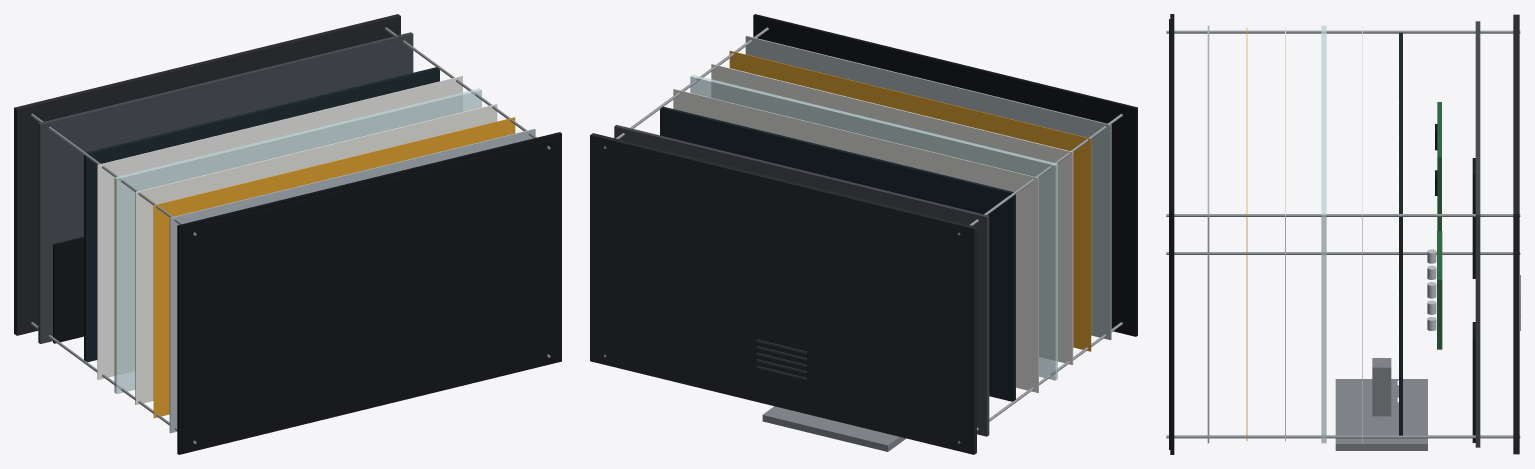
Rendered from asset-object-63189b5a-cc04-4052-b918-e9fbed7979ef-qled-tv-exploded.glb.
3 views of the same model, side by side, from view 1: azimuth 30°, elevation 25°; view 2: azimuth 150°, elevation 25°; view 3: azimuth 270°, elevation 25° (orthographic). The views are drawn at different scales.
Parts seen in each view (by area): view 1: front_glass, chassis_frame, reflector_sheet, rear_cover, light_guide_plate, diffuser_sheet, quantum_dot_film, led_backlight_pcb, lcd_panel, bezel_border, speaker_grille, assembly_rod (×2); view 2: rear_cover, diffuser_sheet, led_backlight_pcb, bezel_border, reflector_sheet, lcd_panel, light_guide_plate, quantum_dot_film, chassis_frame, stand_base, assembly_rod (×2); view 3: stand_base, assembly_rod (×4), rear_cover, chassis_frame, light_guide_plate, bezel_border, led_backlight_pcb, lcd_panel, stand_neck, speaker_grille (×2), front_glass, quantum_dot_film (+4 smaller).
Part boxes in pixels (x1,y1,x2,y2): front_glass: [182, 137, 559, 451]; chassis_frame: [38, 32, 413, 343]; reflector_sheet: [97, 76, 462, 379]; rear_cover: [14, 14, 400, 335]; light_guide_plate: [114, 88, 481, 393]; diffuser_sheet: [135, 104, 497, 404]; quantum_dot_film: [153, 117, 515, 418]; led_backlight_pcb: [84, 67, 439, 362]; lcd_panel: [169, 128, 535, 433]; bezel_border: [177, 132, 561, 454]; speaker_grille: [53, 236, 83, 343]; assembly_rod (×2): [31, 27, 550, 235]; rear_cover: [590, 133, 976, 454]; diffuser_sheet: [711, 64, 1073, 364]; led_backlight_pcb: [660, 106, 1015, 401]; bezel_border: [753, 14, 1137, 336]; reflector_sheet: [673, 89, 1038, 392]; lcd_panel: [745, 35, 1111, 340]; light_guide_plate: [690, 75, 1057, 380]; quantum_dot_film: [729, 50, 1091, 351]; chassis_frame: [614, 125, 989, 436]; stand_base: [762, 406, 906, 451]; assembly_rod (×2): [603, 27, 1122, 235]; stand_base: [1335, 379, 1427, 450]; assembly_rod (×4): [1166, 30, 1520, 438]; rear_cover: [1513, 14, 1519, 454]; chassis_frame: [1475, 21, 1480, 447]; light_guide_plate: [1321, 25, 1326, 443]; bezel_border: [1170, 14, 1174, 454]; led_backlight_pcb: [1399, 32, 1402, 435]; lcd_panel: [1207, 25, 1209, 443]; stand_neck: [1372, 358, 1391, 416]; speaker_grille (×2): [1472, 158, 1475, 442]; front_glass: [1169, 19, 1170, 449]; quantum_dot_film: [1246, 28, 1247, 440].
Bounding box in the file's own units: 1.22 × 0.875 × 0.921.
